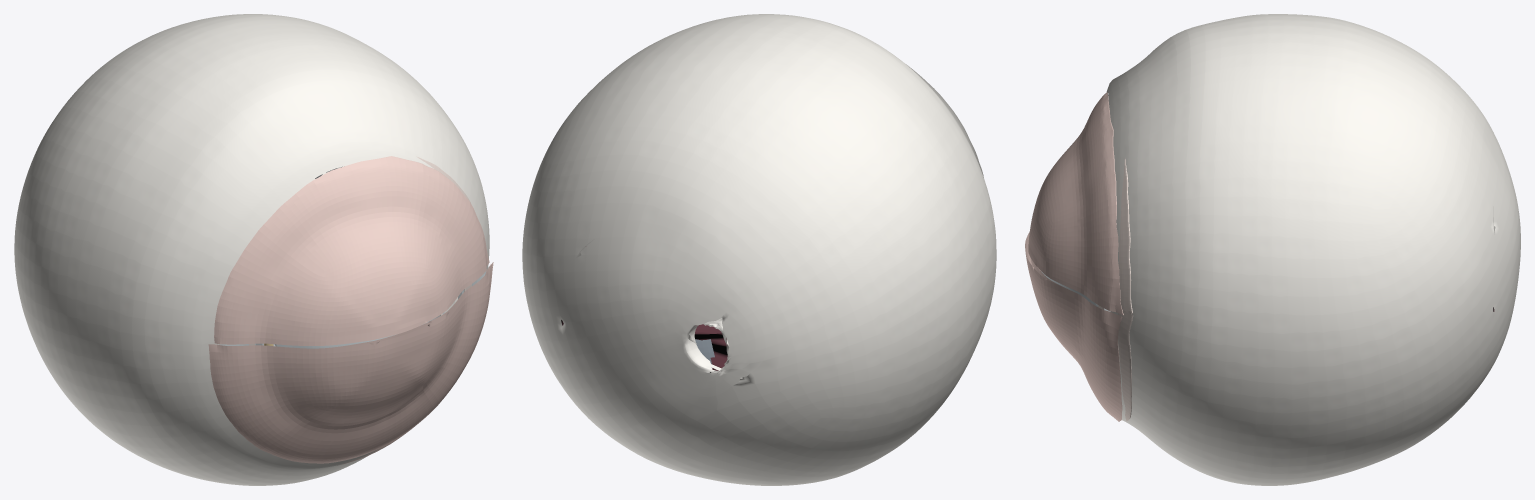
The model's file is eye-anatomy.glb.
3 renders of one model, left to right at view 1: azimuth 30°, elevation 25°; view 2: azimuth 150°, elevation 25°; view 3: azimuth 270°, elevation 25°, orthographic.
Visible parts, largest first — view 1: VH_M_sclera_L, VH_M_palpebral_conjunctiva_of_upper_eyelid_L, VH_M_palpebral_conjunctiva_of_lower_eyelid_L; view 2: VH_M_sclera_L, VH_M_optic_choroid_L; view 3: VH_M_sclera_L, VH_M_palpebral_conjunctiva_of_upper_eyelid_L, VH_M_palpebral_conjunctiva_of_lower_eyelid_L, VH_M_bulbar_conjunctiva_L.
Part boxes in pixels (x1,y1,x2,y2): VH_M_sclera_L: [14, 14, 489, 485]; VH_M_palpebral_conjunctiva_of_upper_eyelid_L: [214, 156, 489, 345]; VH_M_palpebral_conjunctiva_of_lower_eyelid_L: [208, 262, 493, 465]; VH_M_sclera_L: [522, 14, 996, 485]; VH_M_optic_choroid_L: [561, 320, 727, 372]; VH_M_sclera_L: [1106, 14, 1520, 485]; VH_M_palpebral_conjunctiva_of_upper_eyelid_L: [1028, 92, 1123, 314]; VH_M_palpebral_conjunctiva_of_lower_eyelid_L: [1025, 232, 1122, 421]; VH_M_bulbar_conjunctiva_L: [1098, 158, 1133, 421].
Size of the model in its own units: 3.61 by 3.6 by 3.8.
